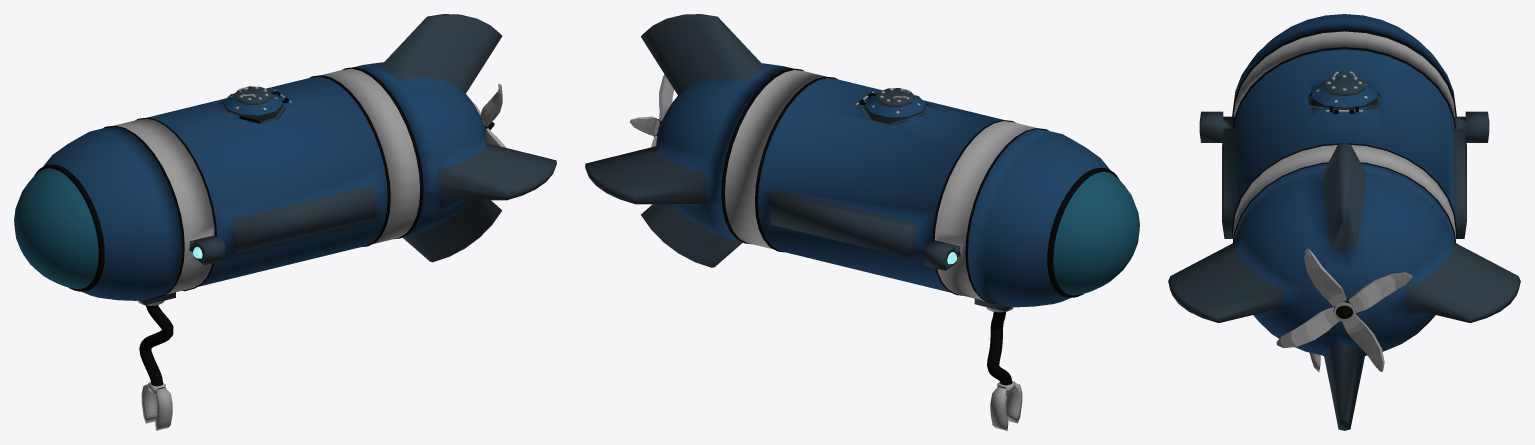
The model's file is Submarine.glb.
3 views of the same model, side by side, from view 1: azimuth 30°, elevation 25°; view 2: azimuth 150°, elevation 25°; view 3: azimuth 270°, elevation 25° (orthographic). The views are drawn at different scales.
Parts seen in each view (by area): view 1: Hull, Glass, Hull.002, Cube, Stopper, Propeller; view 2: Hull, Glass, Cube, Stopper, Hull.002, Propeller; view 3: Hull, Propeller.
Boxes of the visible parts, x1,y1,x2,y2 form: Hull: (43, 14, 556, 305); Glass: (14, 168, 98, 289); Hull.002: (139, 305, 173, 386); Cube: (141, 382, 172, 430); Stopper: (34, 164, 104, 291); Propeller: (472, 83, 505, 147); Hull: (585, 14, 1109, 312); Glass: (1053, 171, 1139, 295); Cube: (990, 381, 1022, 430); Stopper: (1047, 167, 1119, 297); Hull.002: (987, 312, 1012, 385); Propeller: (630, 74, 674, 147); Hull: (1168, 14, 1520, 430); Propeller: (1276, 248, 1412, 371).
Size of the model in its own units: 27.96 by 18.83 by 15.84.
